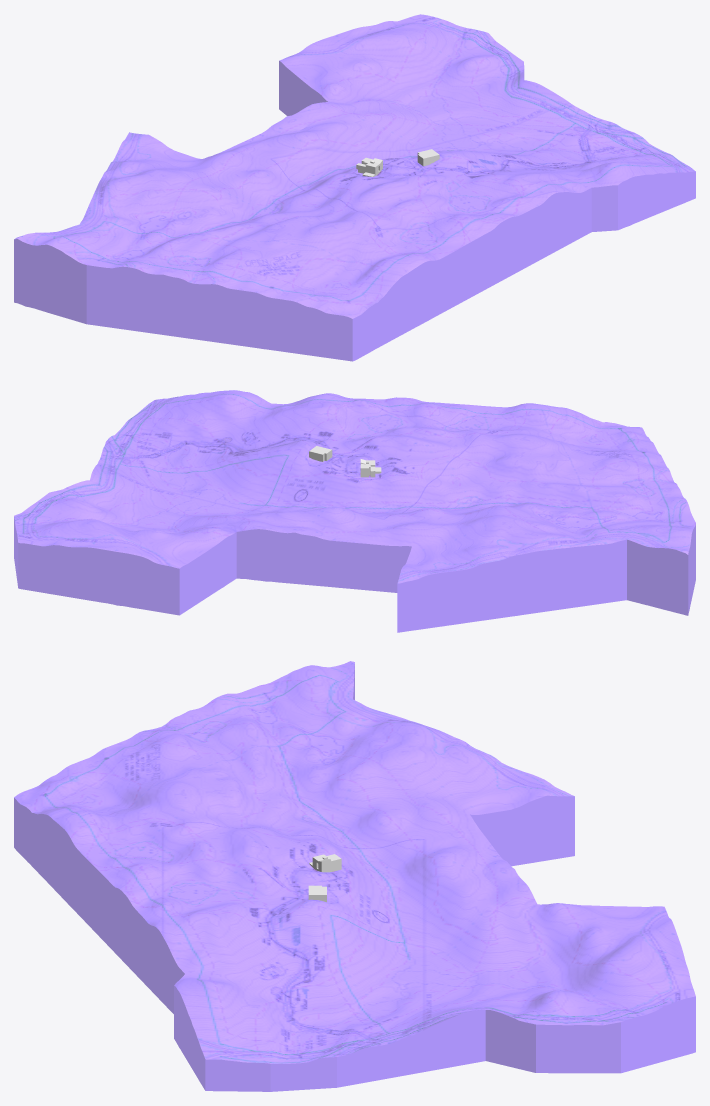
File: land.glb
The picture shows the model from 3 angles, top to bottom: view 1: azimuth 30°, elevation 25°; view 2: azimuth 150°, elevation 25°; view 3: azimuth 270°, elevation 25°; orthographic projection. The views are drawn at different scales.
Visible parts, largest first — view 1: Land; view 2: Land; view 3: Land.
Part boxes in pixels (x1,y1,x2,y2): Land: [14, 14, 695, 361]; Land: [14, 390, 695, 632]; Land: [14, 661, 695, 1091].
Bounding box in the file's own units: 668 × 73.24 × 542.
Materials: 2 (1 with a texture image).
